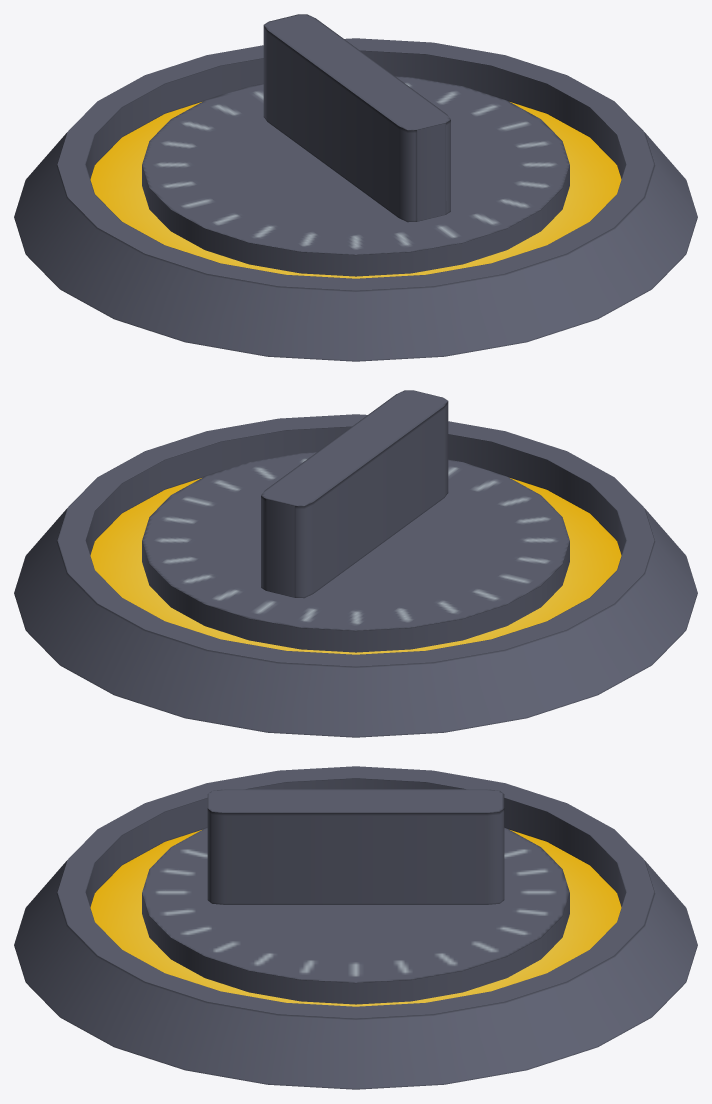
The model's file is Button_Big_Circular_Yellow.FBX.
The picture shows the model from 3 angles, top to bottom: view 1: azimuth 30°, elevation 25°; view 2: azimuth 150°, elevation 25°; view 3: azimuth 270°, elevation 25°; orthographic projection.
Visible parts, largest first — view 1: Button_Big_Circular_Yellow, Turn_Me_On; view 2: Button_Big_Circular_Yellow, Turn_Me_On; view 3: Button_Big_Circular_Yellow, Turn_Me_On.
Boxes of the visible parts, x1=… form: Button_Big_Circular_Yellow: x1=14, y1=38, x2=697, y2=361; Turn_Me_On: x1=142, y1=14, x2=569, y2=276; Button_Big_Circular_Yellow: x1=14, y1=414, x2=697, y2=737; Turn_Me_On: x1=142, y1=390, x2=569, y2=652; Button_Big_Circular_Yellow: x1=14, y1=766, x2=697, y2=1089; Turn_Me_On: x1=142, y1=789, x2=569, y2=1004.
Bounding box in the file's own units: 0.2964 × 0.0691 × 0.2964.
Materials: 1 (1 with a texture image).
